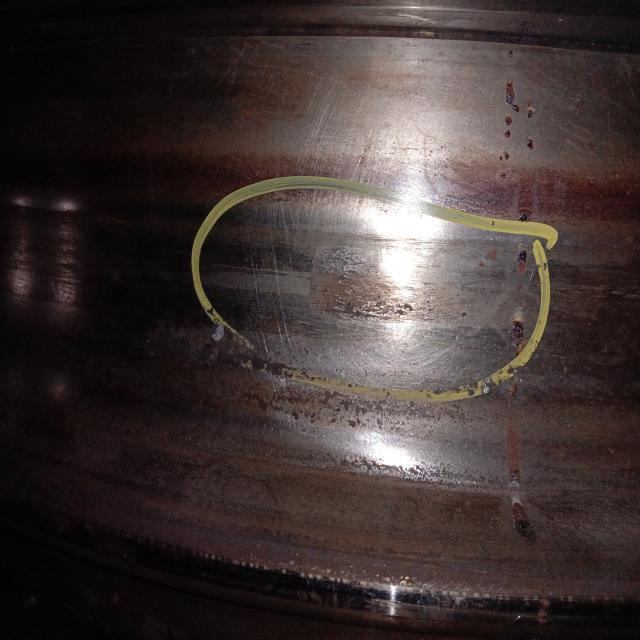Rollerpile: (304, 227, 467, 326)
